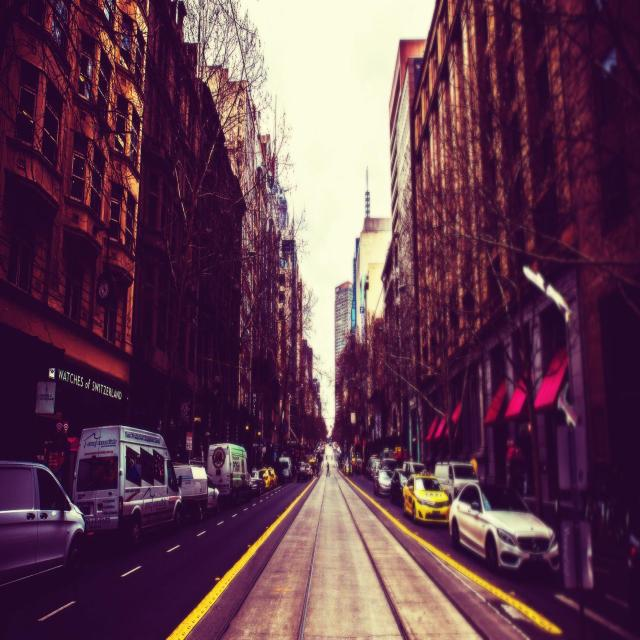airplane: (518, 263, 572, 325), (558, 382, 579, 429)
